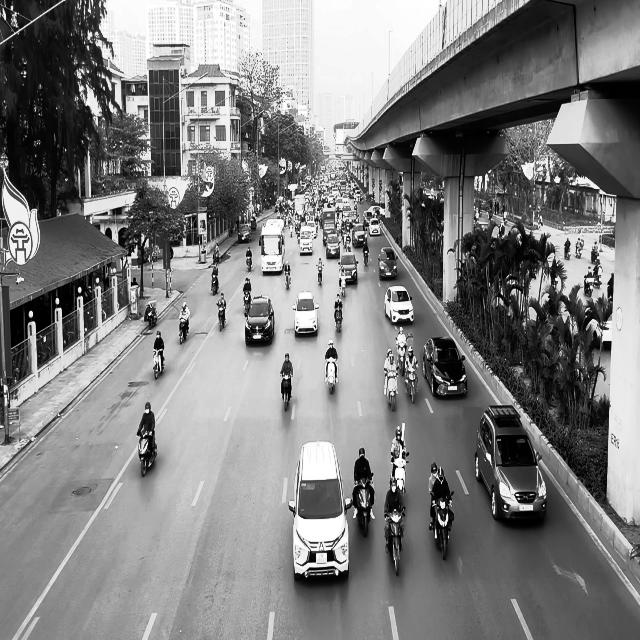car: (288, 440, 352, 581), (474, 404, 547, 522), (422, 336, 467, 398), (244, 294, 274, 346), (292, 291, 319, 335), (384, 285, 414, 324), (338, 252, 359, 284), (378, 247, 398, 280), (325, 234, 340, 258), (237, 224, 251, 242)
motorbike: (430, 491, 454, 560), (384, 506, 405, 575), (353, 473, 374, 537), (137, 431, 157, 476), (390, 452, 409, 498), (384, 368, 398, 411), (324, 355, 338, 394), (405, 362, 418, 403), (280, 371, 292, 411), (153, 348, 164, 379), (396, 343, 406, 375), (216, 303, 226, 332), (146, 302, 157, 328), (178, 317, 188, 344), (334, 305, 343, 332), (583, 274, 594, 296), (243, 290, 251, 316), (211, 271, 218, 295), (575, 239, 583, 258), (362, 245, 369, 265), (284, 269, 291, 289), (317, 264, 323, 286), (564, 242, 571, 259), (246, 255, 252, 272)
truck: (260, 217, 286, 274)
